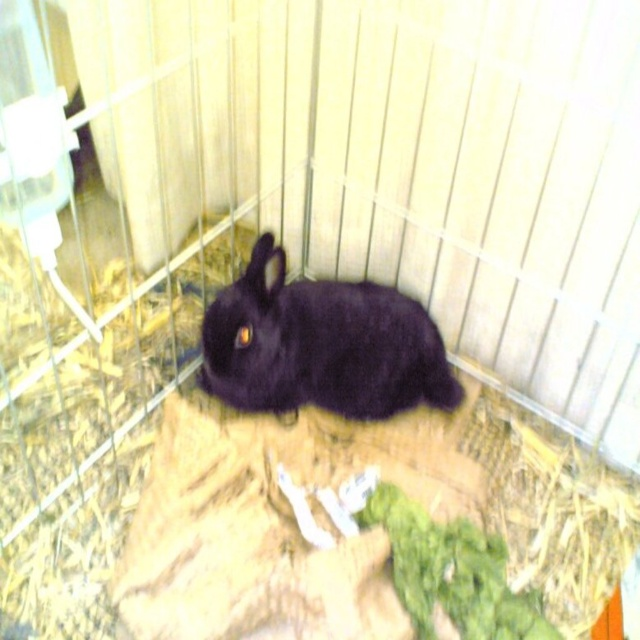Rabbit: (198, 230, 467, 424)
